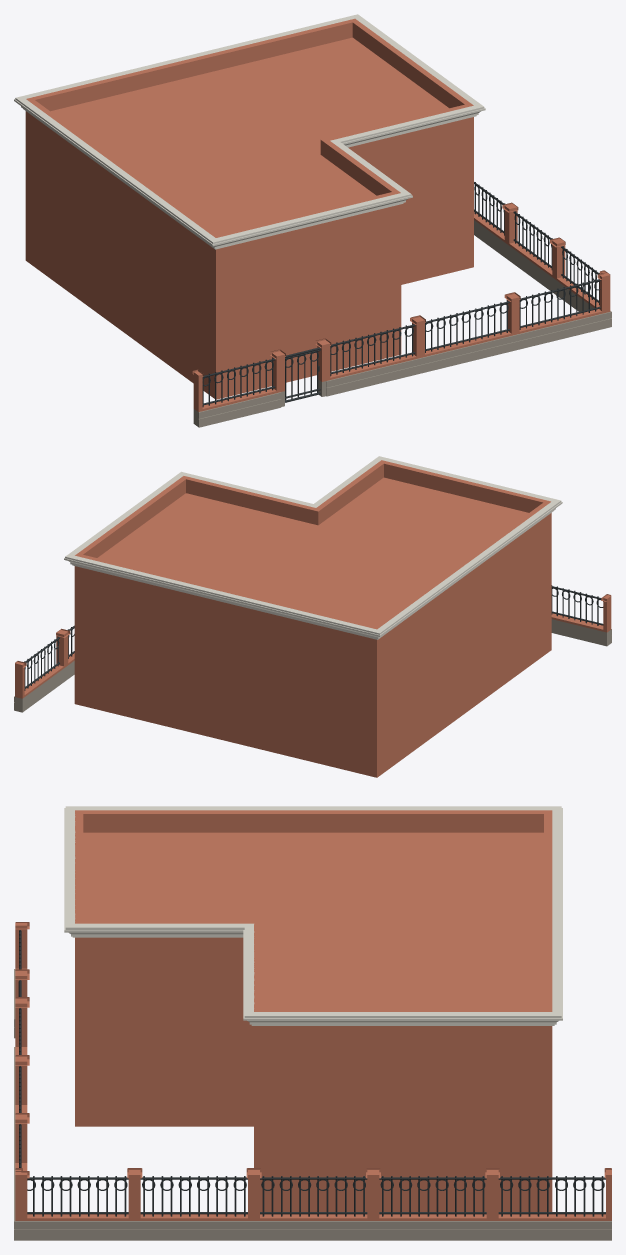
The model's file is building.glb.
The picture shows the model from 3 angles, top to bottom: view 1: azimuth 30°, elevation 25°; view 2: azimuth 150°, elevation 25°; view 3: azimuth 270°, elevation 25°; orthographic projection. The views are drawn at different scales.
Parts seen in each view (by area): view 1: roof/body:0/roof_slab#0001, body:0/edge5/z0/body:0/edge5/z0/wall_0_0, body:0/edge0/z0/body:0/edge0/z0/wall_0_0, roof/body:0/parapet#0001, body:0/edge2/z0/body:0/edge2/z0/wall_0_0, trim/cornice/0/trim_cornice#0001, trim/fence/1/3/trim_plinth#0001, trim/fence/1/5/trim_plinth#0001, body:0/edge4/z0/body:0/edge4/z0/wall_0_0, body:0/edge3/z0/body:0/edge3/z0/wall_0_0, trim/fence/1/2/trim_plinth#0001, site/fence/1/boundary_base#0003 (+1 smaller); view 2: body:0/edge4/z0/body:0/edge4/z0/wall_0_0, roof/body:0/roof_slab#0001, body:0/edge5/z0/body:0/edge5/z0/wall_0_0, roof/body:0/parapet#0001, trim/cornice/0/trim_cornice#0001, body:0/edge3/z0/body:0/edge3/z0/wall_0_0, site/fence/0/boundary_base#0001, site/fence/1/boundary_base#0009, body:0/edge0/z0/body:0/edge0/z0/wall_0_0; view 3: roof/body:0/roof_slab#0001, body:0/edge3/z0/body:0/edge3/z0/wall_0_0, body:0/edge1/z0/body:0/edge1/z0/wall_0_0, roof/body:0/parapet#0001, trim/cornice/0/trim_cornice#0001, trim/fence/1/3/trim_plinth#0001, trim/fence/1/5/trim_plinth#0001, body:0/edge0/z0/body:0/edge0/z0/wall_0_0, body:0/edge2/z0/body:0/edge2/z0/wall_0_0, body:0/edge4/z0/body:0/edge4/z0/wall_0_0, trim/fence/1/1/trim_plinth#0001, body:0/edge5/z0/body:0/edge5/z0/wall_0_0 (+10 smaller).
Part boxes in pixels (bbox=[...]): roof/body:0/roof_slab#0001: bbox=[26, 38, 473, 256]; body:0/edge5/z0/body:0/edge5/z0/wall_0_0: bbox=[25, 114, 223, 399]; body:0/edge0/z0/body:0/edge0/z0/wall_0_0: bbox=[211, 208, 401, 399]; roof/body:0/parapet#0001: bbox=[25, 18, 473, 253]; body:0/edge2/z0/body:0/edge2/z0/wall_0_0: bbox=[352, 121, 473, 284]; trim/cornice/0/trim_cornice#0001: bbox=[14, 14, 485, 249]; trim/fence/1/3/trim_plinth#0001: bbox=[326, 318, 611, 396]; trim/fence/1/5/trim_plinth#0001: bbox=[326, 311, 611, 387]; body:0/edge4/z0/body:0/edge4/z0/wall_0_0: bbox=[25, 38, 353, 263]; body:0/edge3/z0/body:0/edge3/z0/wall_0_0: bbox=[350, 37, 473, 267]; trim/fence/1/2/trim_plinth#0001: bbox=[198, 399, 281, 427]; site/fence/1/boundary_base#0003: bbox=[507, 244, 554, 290]; body:0/edge4/z0/body:0/edge4/z0/wall_0_0: bbox=[74, 570, 381, 777]; roof/body:0/roof_slab#0001: bbox=[75, 479, 550, 649]; body:0/edge5/z0/body:0/edge5/z0/wall_0_0: bbox=[369, 516, 551, 776]; roof/body:0/parapet#0001: bbox=[74, 460, 551, 643]; trim/cornice/0/trim_cornice#0001: bbox=[64, 456, 562, 639]; body:0/edge3/z0/body:0/edge3/z0/wall_0_0: bbox=[74, 493, 187, 705]; site/fence/0/boundary_base#0001: bbox=[551, 619, 611, 646]; site/fence/1/boundary_base#0009: bbox=[15, 667, 66, 712]; body:0/edge0/z0/body:0/edge0/z0/wall_0_0: bbox=[383, 477, 551, 650]; roof/body:0/roof_slab#0001: bbox=[75, 832, 552, 1040]; body:0/edge3/z0/body:0/edge3/z0/wall_0_0: bbox=[254, 1031, 552, 1211]; body:0/edge1/z0/body:0/edge1/z0/wall_0_0: bbox=[75, 942, 253, 1126]; roof/body:0/parapet#0001: bbox=[75, 810, 552, 1030]; trim/cornice/0/trim_cornice#0001: bbox=[64, 806, 562, 1025]; trim/fence/1/3/trim_plinth#0001: bbox=[14, 1229, 611, 1240]; trim/fence/1/5/trim_plinth#0001: bbox=[14, 1047, 611, 1229]; body:0/edge0/z0/body:0/edge0/z0/wall_0_0: bbox=[75, 832, 86, 1126]; body:0/edge2/z0/body:0/edge2/z0/wall_0_0: bbox=[254, 942, 265, 1211]; body:0/edge4/z0/body:0/edge4/z0/wall_0_0: bbox=[540, 832, 552, 1211]; trim/fence/1/1/trim_plinth#0001: bbox=[15, 1047, 611, 1229]; body:0/edge5/z0/body:0/edge5/z0/wall_0_0: bbox=[84, 832, 543, 834].
Bounding box in the file's own units: 10.02 × 3.75 × 10.03.
